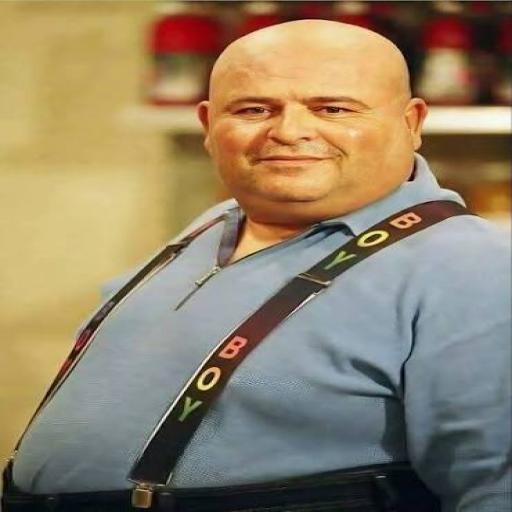sboui: (198, 20, 426, 223)
